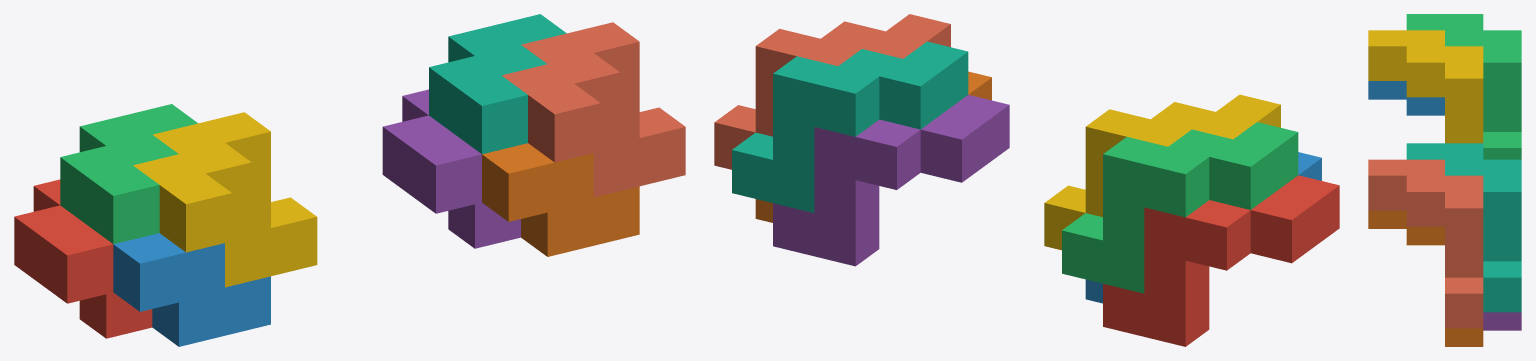
File: tiling.obj
3 renders of one model, left to right at view 1: azimuth 30°, elevation 25°; view 2: azimuth 150°, elevation 25°; view 3: azimuth 270°, elevation 25°, orthographic. The views are drawn at different scales.
Parts seen in each view (by area): view 1: copy_1_domain_8, copy_1_domain_4, copy_1_domain_6, copy_1_domain_2, copy_1_domain_3, copy_1_domain_7, copy_1_domain_1, copy_1_domain_5; view 2: copy_1_domain_3, copy_1_domain_7, copy_1_domain_1, copy_1_domain_5, copy_1_domain_4, copy_1_domain_8, copy_1_domain_2, copy_1_domain_6; view 3: copy_1_domain_8, copy_1_domain_4, copy_1_domain_7, copy_1_domain_3, copy_1_domain_6, copy_1_domain_2, copy_1_domain_5.
Part boxes in pixels (x1,y1,x2,y2): copy_1_domain_8: [502, 22, 685, 197]; copy_1_domain_4: [133, 112, 317, 287]; copy_1_domain_6: [482, 143, 639, 256]; copy_1_domain_2: [113, 233, 270, 346]; copy_1_domain_3: [60, 104, 197, 244]; copy_1_domain_7: [429, 14, 566, 154]; copy_1_domain_1: [14, 179, 152, 338]; copy_1_domain_5: [382, 89, 520, 248]; copy_1_domain_3: [1062, 122, 1298, 293]; copy_1_domain_7: [732, 41, 968, 212]; copy_1_domain_1: [1103, 175, 1339, 346]; copy_1_domain_5: [773, 95, 1009, 266]; copy_1_domain_4: [1044, 94, 1280, 250]; copy_1_domain_8: [714, 14, 950, 169]; copy_1_domain_2: [1085, 152, 1321, 303]; copy_1_domain_6: [755, 71, 991, 222]; copy_1_domain_8: [1368, 159, 1483, 328]; copy_1_domain_4: [1368, 30, 1483, 143]; copy_1_domain_7: [1406, 143, 1521, 312]; copy_1_domain_3: [1406, 14, 1521, 159]; copy_1_domain_6: [1368, 210, 1483, 346]; copy_1_domain_2: [1368, 81, 1444, 115]; copy_1_domain_5: [1483, 312, 1521, 330].
Bounding box in the file's own units: 14 × 4 × 4.
